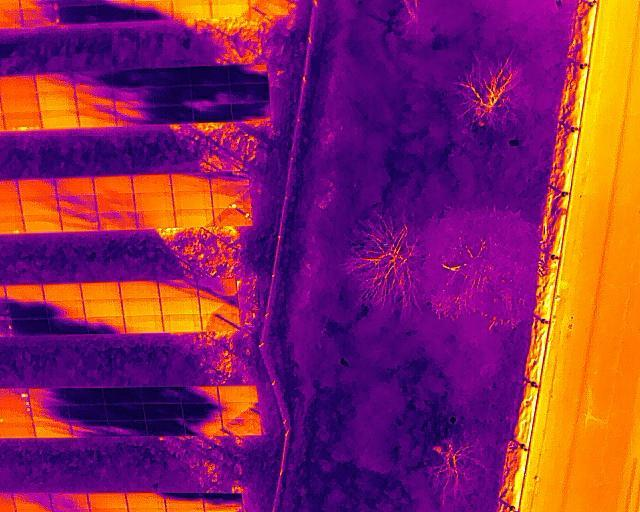Cell: (213, 208, 252, 226), (212, 191, 250, 209)
Cell-Multi: (3, 112, 41, 131)
No-Anomaly: (127, 492, 167, 512), (96, 192, 135, 212), (87, 493, 128, 512), (0, 93, 38, 113), (94, 175, 133, 194), (125, 314, 163, 333), (123, 296, 161, 315), (5, 284, 43, 303), (175, 209, 213, 228), (172, 0, 210, 19), (20, 180, 56, 200), (171, 175, 211, 193), (134, 175, 171, 194), (39, 92, 76, 111), (84, 299, 123, 317), (161, 297, 200, 315), (211, 0, 250, 18), (163, 314, 201, 332), (82, 282, 120, 300), (120, 281, 158, 299), (137, 211, 175, 229), (23, 216, 60, 234), (56, 177, 93, 195), (134, 194, 173, 211), (41, 110, 77, 128), (218, 385, 256, 402), (22, 199, 60, 216), (173, 193, 211, 210), (0, 76, 35, 94), (44, 283, 81, 300)
Shadowing: (151, 105, 193, 125), (151, 86, 192, 106), (58, 4, 97, 25), (151, 66, 191, 86), (77, 105, 115, 126), (192, 84, 230, 105), (98, 211, 137, 231), (211, 172, 250, 192), (191, 65, 230, 85), (74, 69, 113, 89), (165, 493, 206, 512), (232, 101, 270, 121), (230, 83, 268, 103), (230, 64, 268, 84), (115, 105, 151, 126), (22, 6, 58, 27), (205, 493, 244, 512), (76, 86, 113, 106), (114, 85, 151, 105), (36, 73, 73, 93), (98, 2, 135, 22), (87, 315, 125, 334), (193, 104, 231, 123), (136, 0, 172, 20), (250, 0, 290, 18), (181, 385, 218, 404), (59, 194, 96, 213), (71, 419, 108, 438), (159, 279, 198, 297), (49, 494, 88, 512), (31, 421, 72, 438), (198, 278, 236, 296), (47, 300, 84, 318), (201, 296, 238, 314), (61, 214, 98, 232), (223, 419, 260, 437), (113, 68, 150, 86), (141, 387, 180, 404), (145, 418, 184, 435), (69, 402, 105, 420), (31, 404, 69, 421), (202, 314, 240, 331), (30, 387, 67, 404), (49, 317, 86, 334), (15, 494, 52, 511), (184, 418, 221, 435), (103, 388, 142, 404), (106, 404, 145, 420), (11, 303, 47, 320), (145, 403, 183, 419), (11, 320, 48, 336), (220, 403, 257, 419), (67, 388, 103, 404), (108, 420, 146, 435), (184, 404, 220, 419)
